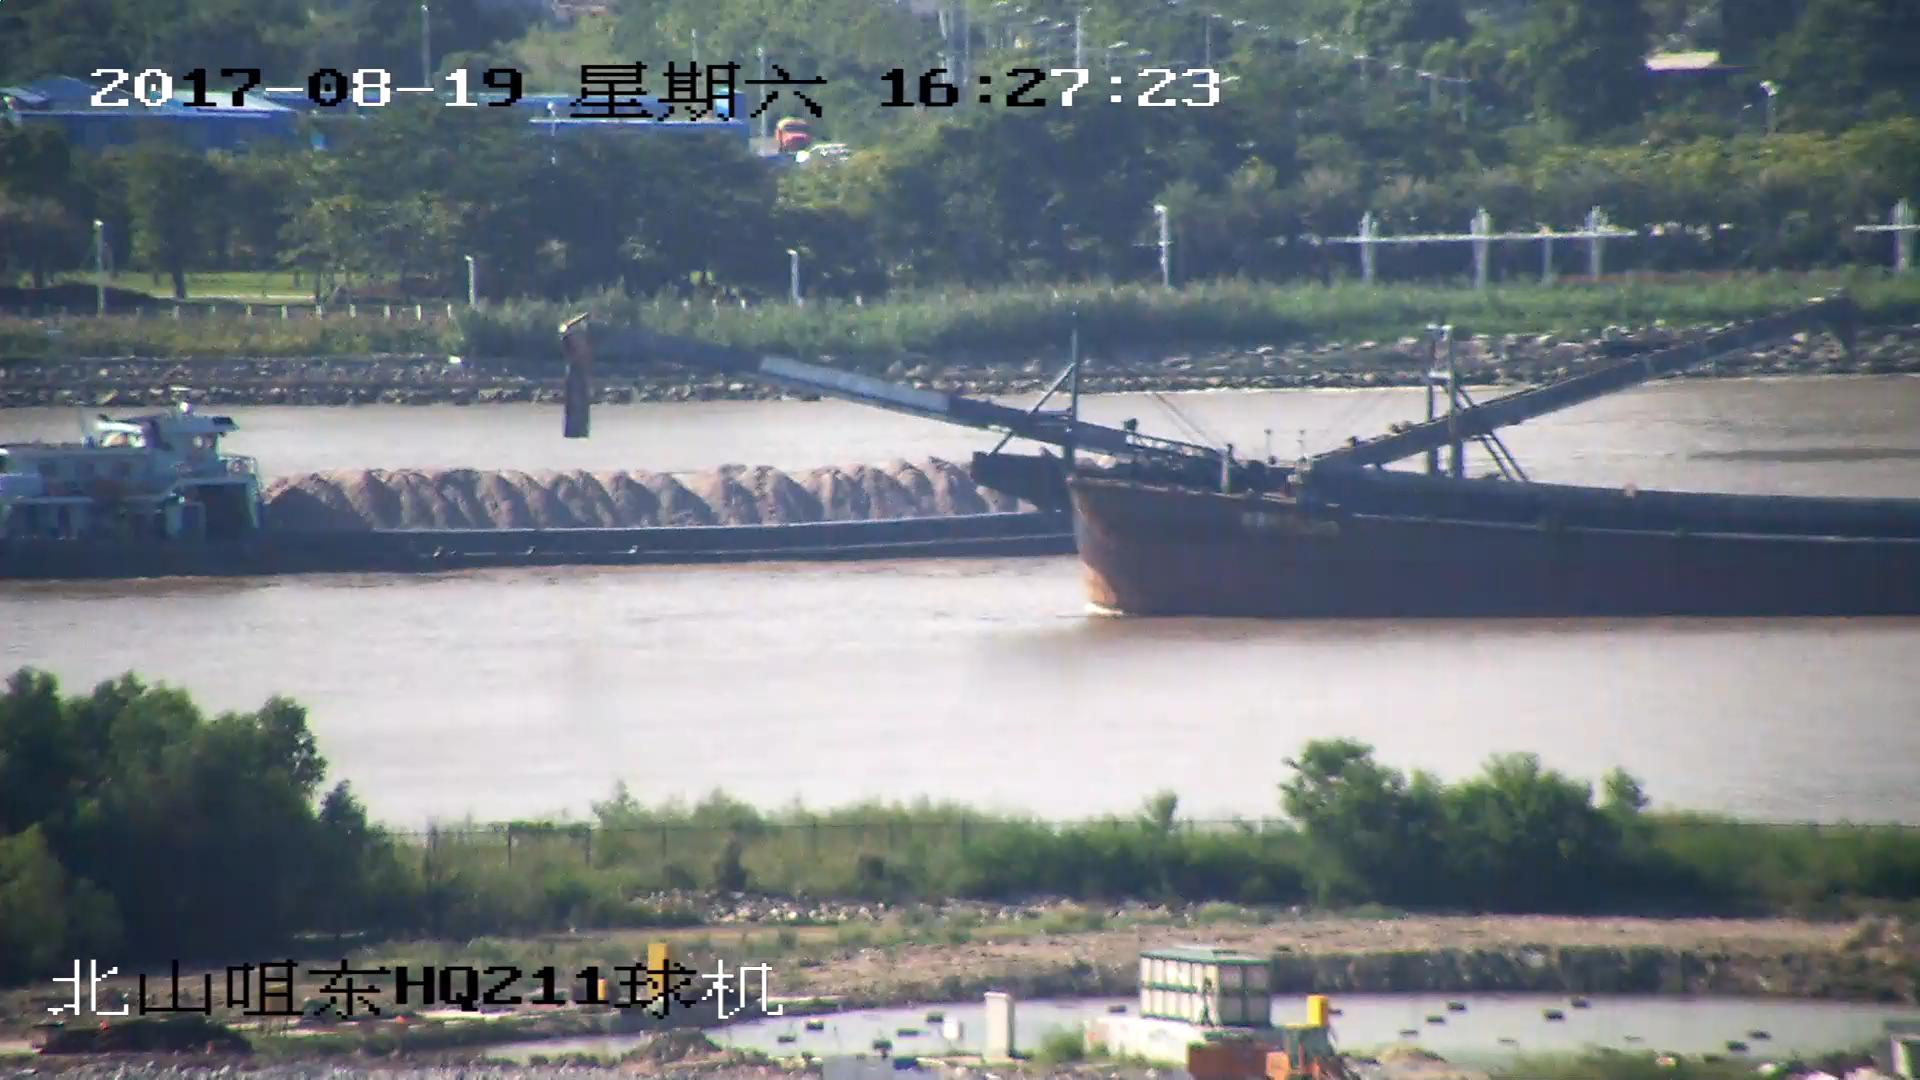bulk cargo carrier: (566, 321, 1920, 624)
ore carrier: (1, 294, 1844, 575)
